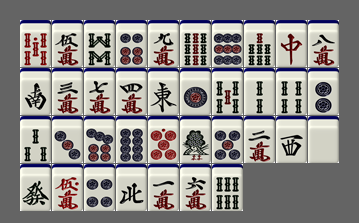0m: (52, 164, 83, 211)
0p: (148, 116, 179, 163)
0s: (20, 20, 51, 67)
1m: (148, 164, 179, 211)
1p: (180, 68, 211, 115)
1s: (180, 116, 211, 163)
1z: (148, 68, 179, 115)
2m: (244, 116, 275, 163)
2p: (308, 68, 339, 115)
2s: (244, 68, 275, 115)
2z: (20, 68, 51, 115)
3m: (52, 68, 83, 115)
3p: (52, 116, 83, 163)
3s: (20, 116, 51, 163)
3z: (276, 116, 307, 163)
4m: (116, 68, 147, 115)
4p: (84, 164, 115, 211)
4s: (276, 68, 307, 115)
4z: (116, 164, 147, 211)
5m: (52, 20, 83, 67)
5p: (212, 116, 243, 163)
5s: (212, 68, 243, 115)
5z: (308, 116, 339, 163)
6m: (180, 164, 211, 211)
6p: (116, 20, 147, 67)
6s: (212, 164, 243, 211)
6z: (20, 164, 51, 211)
7m: (84, 68, 115, 115)
7p: (84, 116, 115, 163)
7s: (244, 20, 275, 67)
7z: (276, 20, 307, 67)
8m: (308, 20, 339, 67)
8p: (116, 116, 147, 163)
8s: (84, 20, 115, 67)
9m: (148, 20, 179, 67)
9p: (212, 20, 243, 67)
9s: (180, 20, 211, 67)
